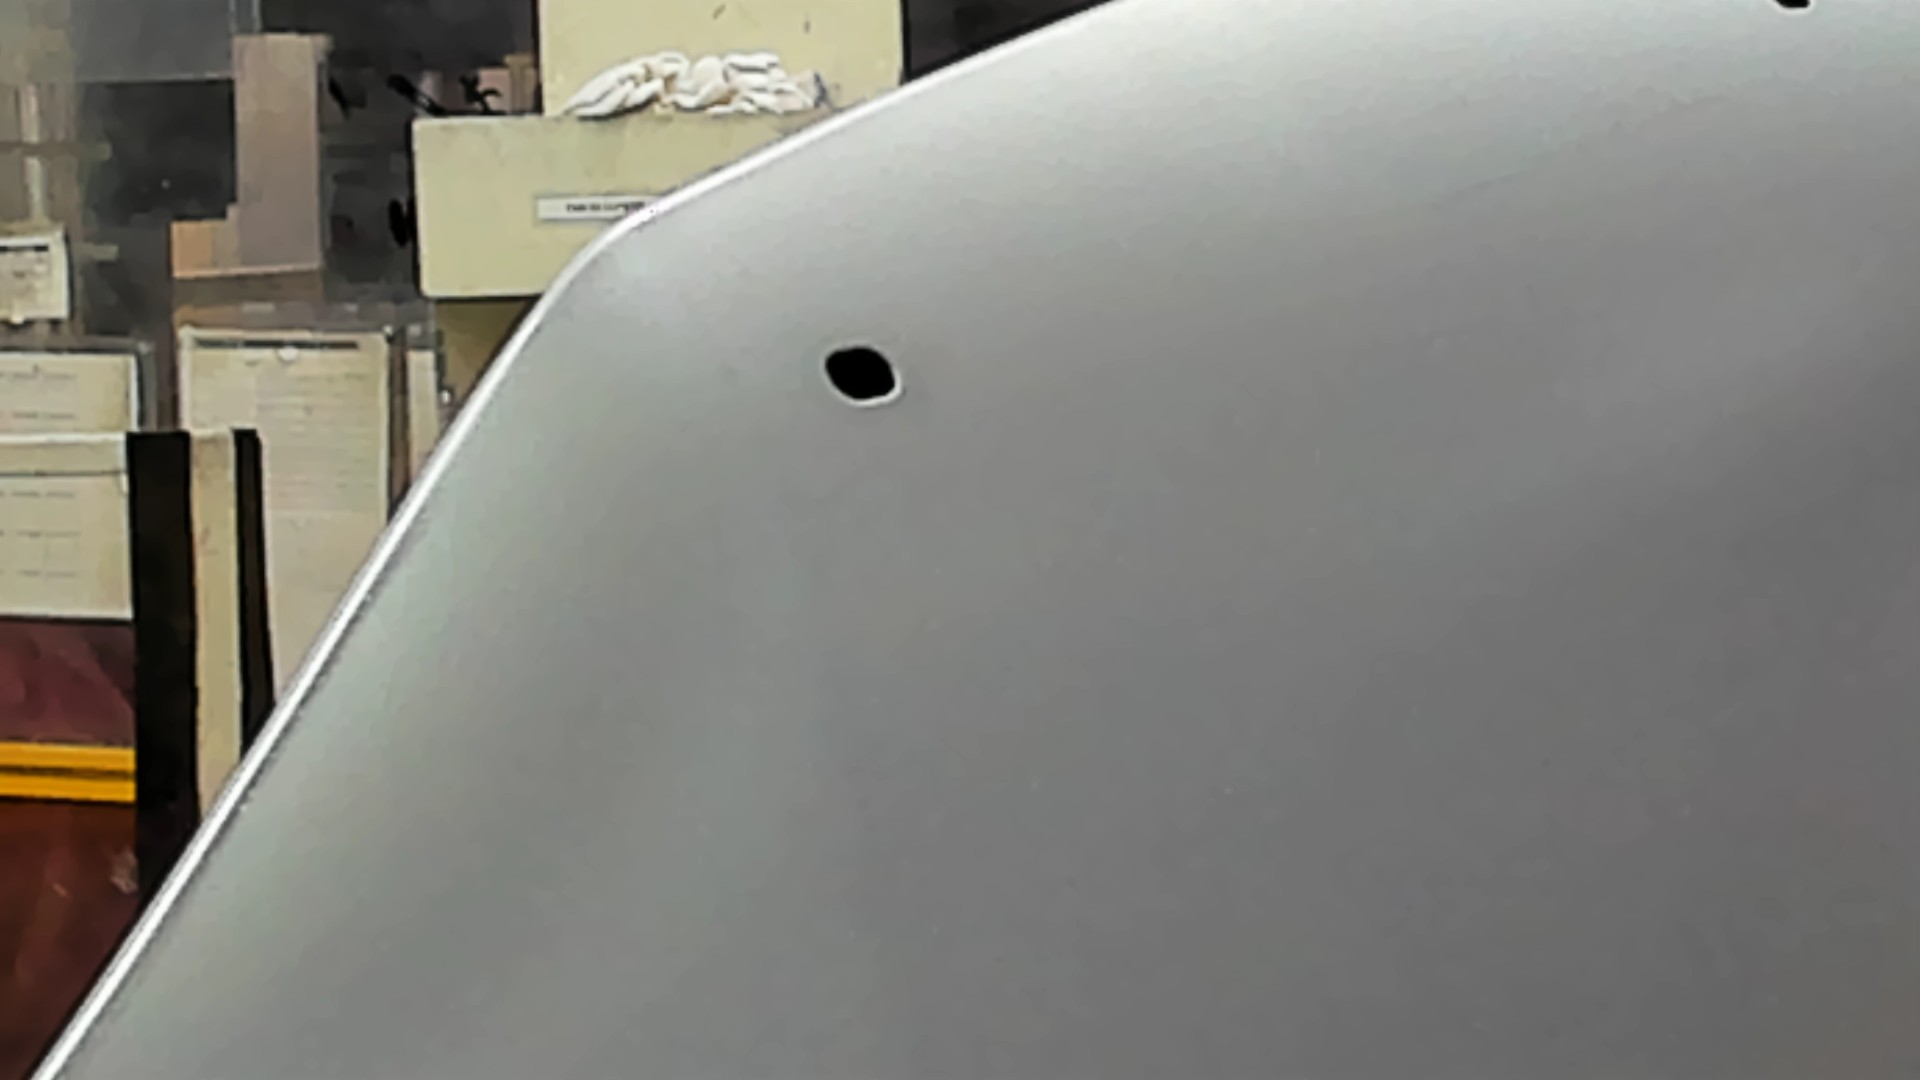amorfo: (816, 340, 907, 406)
capo: (971, 84, 1920, 1080)
